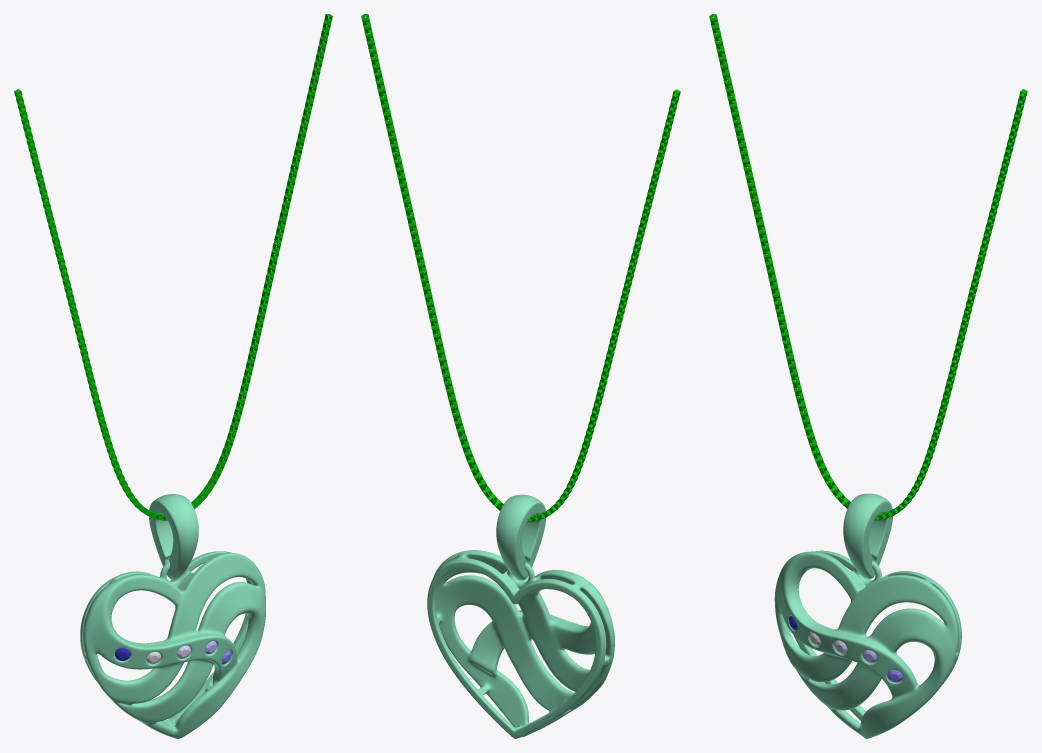
3 renders of one model, left to right at view 1: azimuth 30°, elevation 25°; view 2: azimuth 150°, elevation 25°; view 3: azimuth 330°, elevation 25°, orthographic.
Visible parts, largest first — view 1: Metal02001, Metal01, Metal02; view 2: Metal02001, Metal01, Metal02; view 3: Metal02001, Metal01, Metal02.
Part boxes in pixels (x1,y1,x2,y2): Metal02001: (80,551,265,738); Metal01: (14,14,332,520); Metal02: (149,494,198,579); Metal02001: (427,550,614,738); Metal01: (361,14,680,522); Metal02: (496,494,546,580); Metal02001: (774,550,961,738); Metal01: (709,14,1027,520); Metal02: (843,493,892,578).
Bounding box in the file's own units: 44.19 × 91.41 × 8.97.
